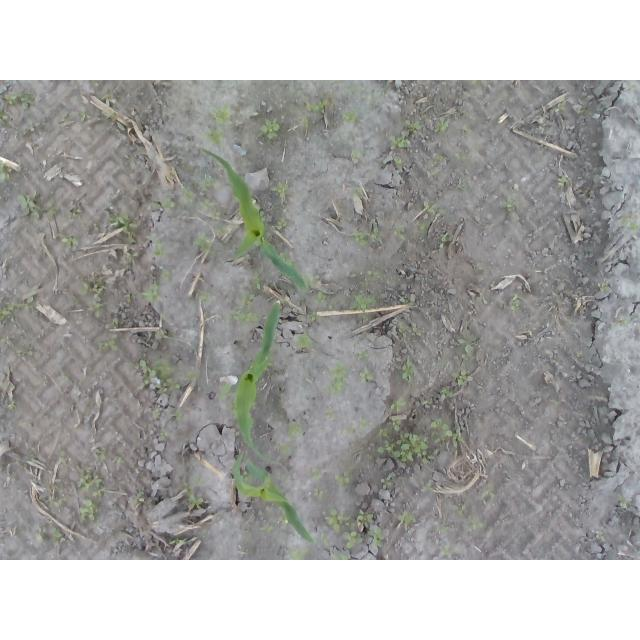Maize: (196, 144, 307, 292), (234, 300, 282, 467), (231, 453, 317, 544)
Weeds: (377, 428, 436, 465), (139, 359, 182, 394), (104, 209, 141, 244), (431, 417, 464, 447), (322, 363, 351, 394), (324, 508, 356, 532), (456, 330, 476, 367), (183, 477, 205, 510), (226, 307, 260, 327), (16, 192, 40, 218), (0, 91, 32, 109), (351, 227, 381, 245), (259, 117, 282, 139), (396, 362, 417, 386), (77, 279, 105, 297), (80, 499, 101, 522), (41, 494, 71, 510), (151, 195, 177, 213), (350, 295, 377, 312), (200, 129, 224, 148), (78, 475, 103, 492), (366, 526, 387, 546), (192, 233, 212, 254), (142, 283, 163, 303), (212, 104, 233, 124), (147, 235, 166, 257), (314, 291, 333, 310), (343, 531, 363, 549), (356, 508, 373, 528), (620, 214, 640, 231), (398, 510, 415, 530), (451, 371, 473, 386), (59, 233, 78, 250), (101, 335, 120, 352), (198, 176, 218, 192), (305, 99, 327, 113), (285, 422, 303, 439), (276, 251, 295, 267), (50, 527, 66, 546), (295, 332, 313, 348), (390, 134, 408, 150), (271, 183, 290, 198), (0, 161, 14, 181), (358, 366, 374, 383), (342, 108, 359, 124), (468, 516, 484, 533), (220, 382, 235, 400), (390, 396, 406, 412), (335, 472, 350, 489), (87, 300, 101, 318), (617, 495, 633, 510), (46, 202, 61, 218), (239, 293, 256, 307), (0, 304, 14, 321), (15, 296, 33, 309), (501, 196, 520, 208), (435, 118, 450, 133), (386, 416, 402, 430), (289, 548, 307, 560), (405, 119, 423, 131), (227, 401, 238, 420), (78, 106, 91, 122), (364, 271, 380, 284), (302, 274, 319, 286), (423, 200, 440, 212), (509, 293, 520, 311), (93, 447, 107, 461), (439, 235, 453, 249), (440, 388, 455, 401), (182, 187, 195, 202), (125, 252, 140, 265), (279, 510, 290, 527), (72, 204, 83, 221), (380, 475, 393, 489), (451, 504, 465, 517), (27, 119, 42, 131), (105, 318, 120, 330), (254, 271, 263, 290), (132, 493, 144, 507), (307, 311, 322, 322), (199, 199, 214, 210), (278, 443, 293, 454), (481, 489, 496, 500), (398, 326, 410, 339), (240, 470, 253, 482), (414, 221, 427, 233), (199, 291, 213, 302), (398, 298, 414, 307), (351, 149, 363, 161), (438, 544, 450, 556), (352, 186, 364, 198), (357, 349, 370, 360), (311, 468, 322, 481), (395, 227, 406, 240), (557, 174, 568, 187), (208, 209, 220, 220), (186, 371, 198, 382), (555, 102, 567, 113), (344, 426, 357, 436), (358, 419, 371, 429), (332, 552, 348, 560), (0, 108, 8, 124), (347, 86, 363, 94), (102, 93, 111, 107), (17, 350, 35, 357), (458, 177, 467, 191), (173, 410, 184, 421), (277, 218, 287, 230), (620, 315, 632, 325), (259, 524, 274, 532), (216, 224, 229, 233), (162, 269, 171, 282), (93, 488, 106, 497), (313, 489, 323, 500), (320, 532, 329, 544), (436, 356, 445, 368), (598, 282, 610, 291), (454, 152, 466, 161), (102, 112, 115, 120), (156, 331, 169, 339), (438, 525, 451, 533), (595, 531, 605, 541), (160, 429, 169, 440), (423, 483, 434, 492), (169, 538, 185, 544), (325, 410, 335, 419), (393, 157, 404, 165), (259, 210, 266, 222), (474, 296, 483, 305), (116, 122, 125, 131), (1, 336, 10, 345), (277, 471, 285, 481), (125, 293, 133, 303), (412, 327, 421, 335), (8, 402, 17, 410), (300, 119, 308, 128), (153, 408, 160, 418), (436, 155, 445, 162), (578, 109, 587, 116), (115, 456, 123, 463), (29, 453, 36, 460), (470, 80, 478, 85), (462, 125, 468, 131), (44, 415, 51, 420)
